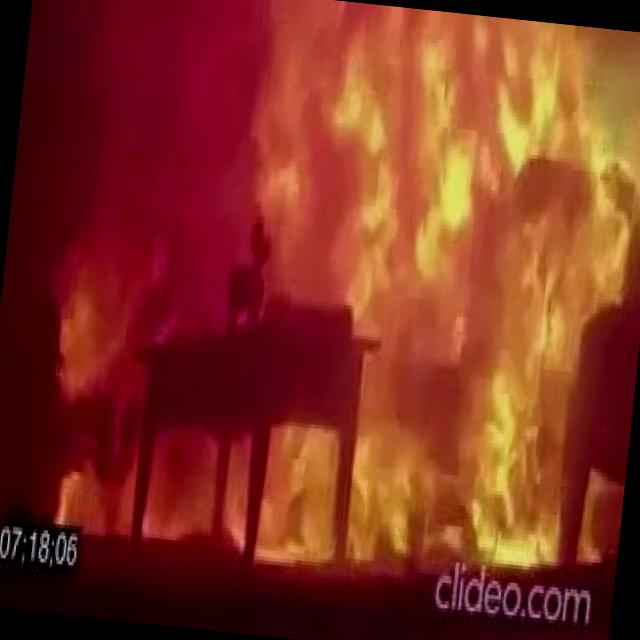fire: (33, 0, 640, 553)
